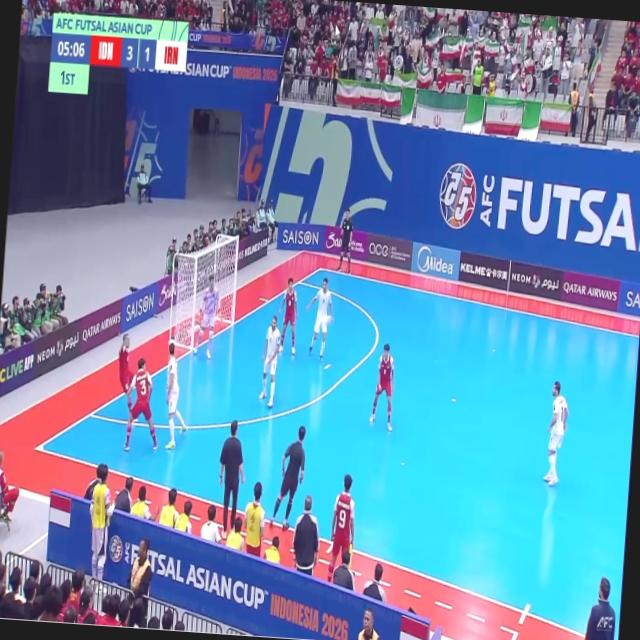keeper: (203, 284, 218, 322)
players: (124, 358, 157, 451), (328, 475, 354, 582), (544, 381, 568, 486), (166, 342, 187, 449), (307, 278, 333, 360), (370, 344, 394, 431), (194, 276, 219, 358), (260, 316, 280, 407), (279, 278, 298, 355), (118, 334, 132, 411)
referee: (271, 426, 305, 530), (337, 209, 353, 273)
